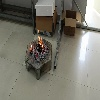fire: (38, 28, 43, 48), (30, 44, 32, 51)
